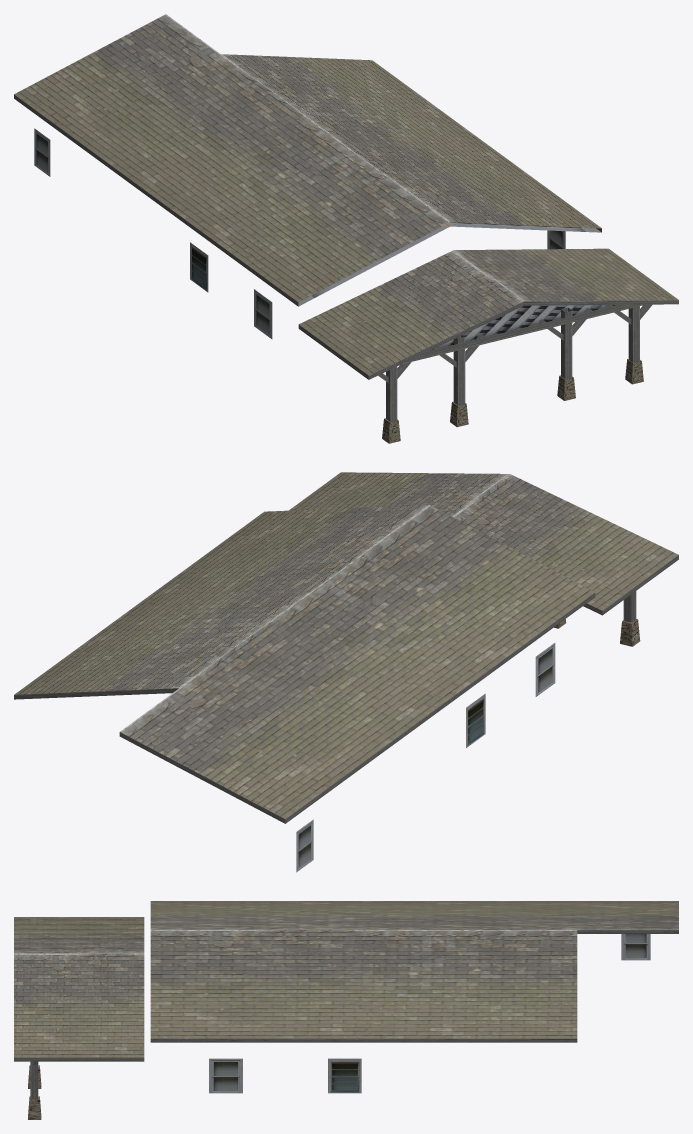
The model's file is rural_storesmall_2_material_0_0.glb.
3 views of the same model, one above another, from view 1: azimuth 30°, elevation 25°; view 2: azimuth 150°, elevation 25°; view 3: azimuth 270°, elevation 25° (orthographic). The views are drawn at different scales.
Parts seen in each view (by area): view 1: Rural_StoreSmall_2_Material #0_0; view 2: Rural_StoreSmall_2_Material #0_0; view 3: Rural_StoreSmall_2_Material #0_0.
Part boxes in pixels (x1,y1,x2,y2): Rural_StoreSmall_2_Material #0_0: (14, 14, 678, 443); Rural_StoreSmall_2_Material #0_0: (14, 472, 678, 872); Rural_StoreSmall_2_Material #0_0: (14, 901, 678, 1119).
Size of the model in its own units: 7.52 by 3.3 by 15.04.
Materials: 1 (1 with a texture image).
